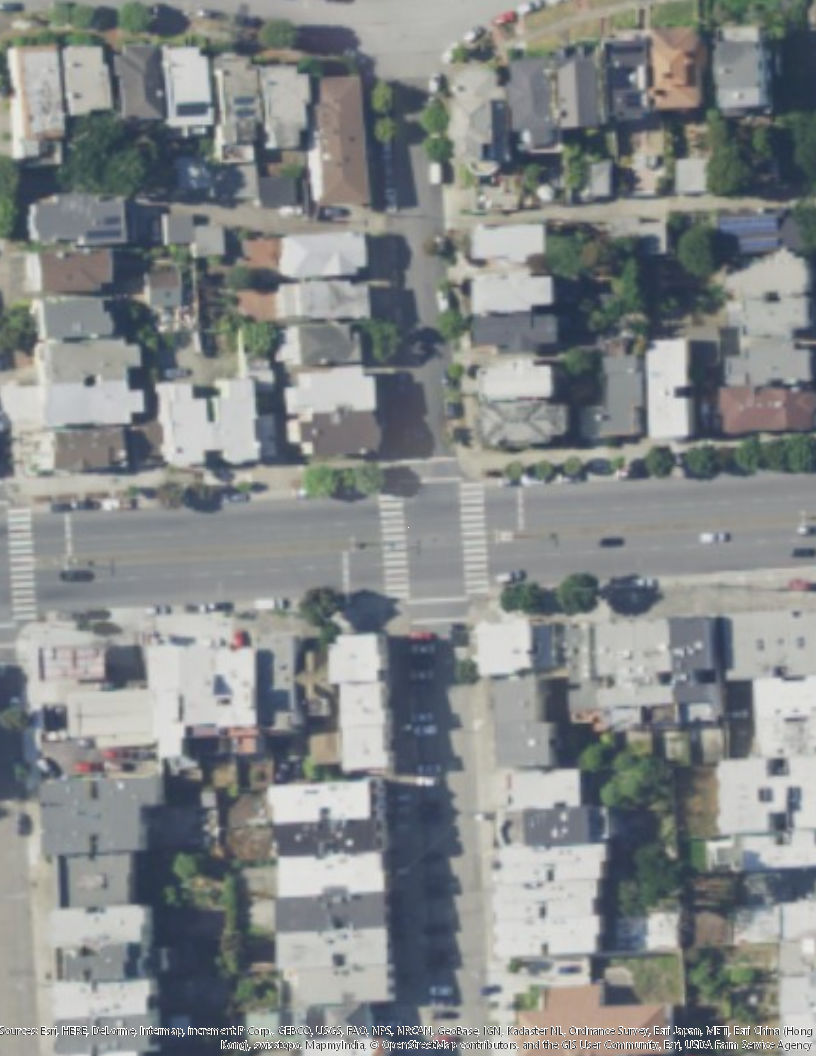zebracross: (455, 486, 493, 591), (378, 490, 411, 599), (7, 507, 38, 623)
